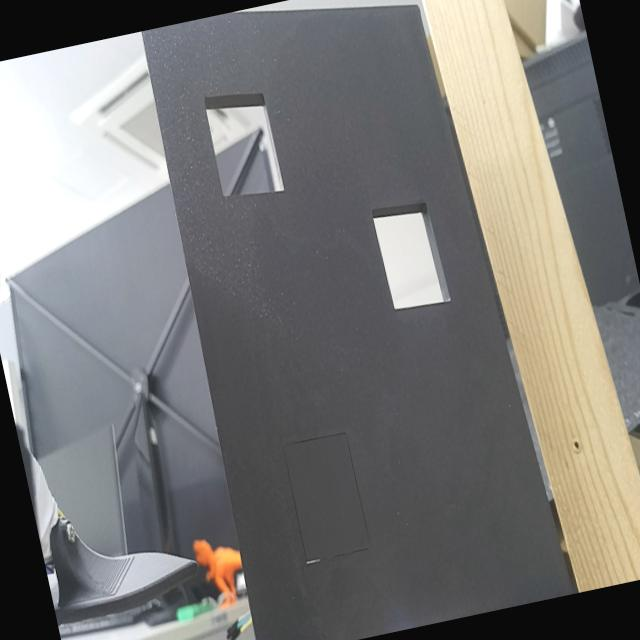Obstacle: (202, 91, 285, 196), (371, 203, 449, 309)
Wall: (143, 6, 571, 640)
